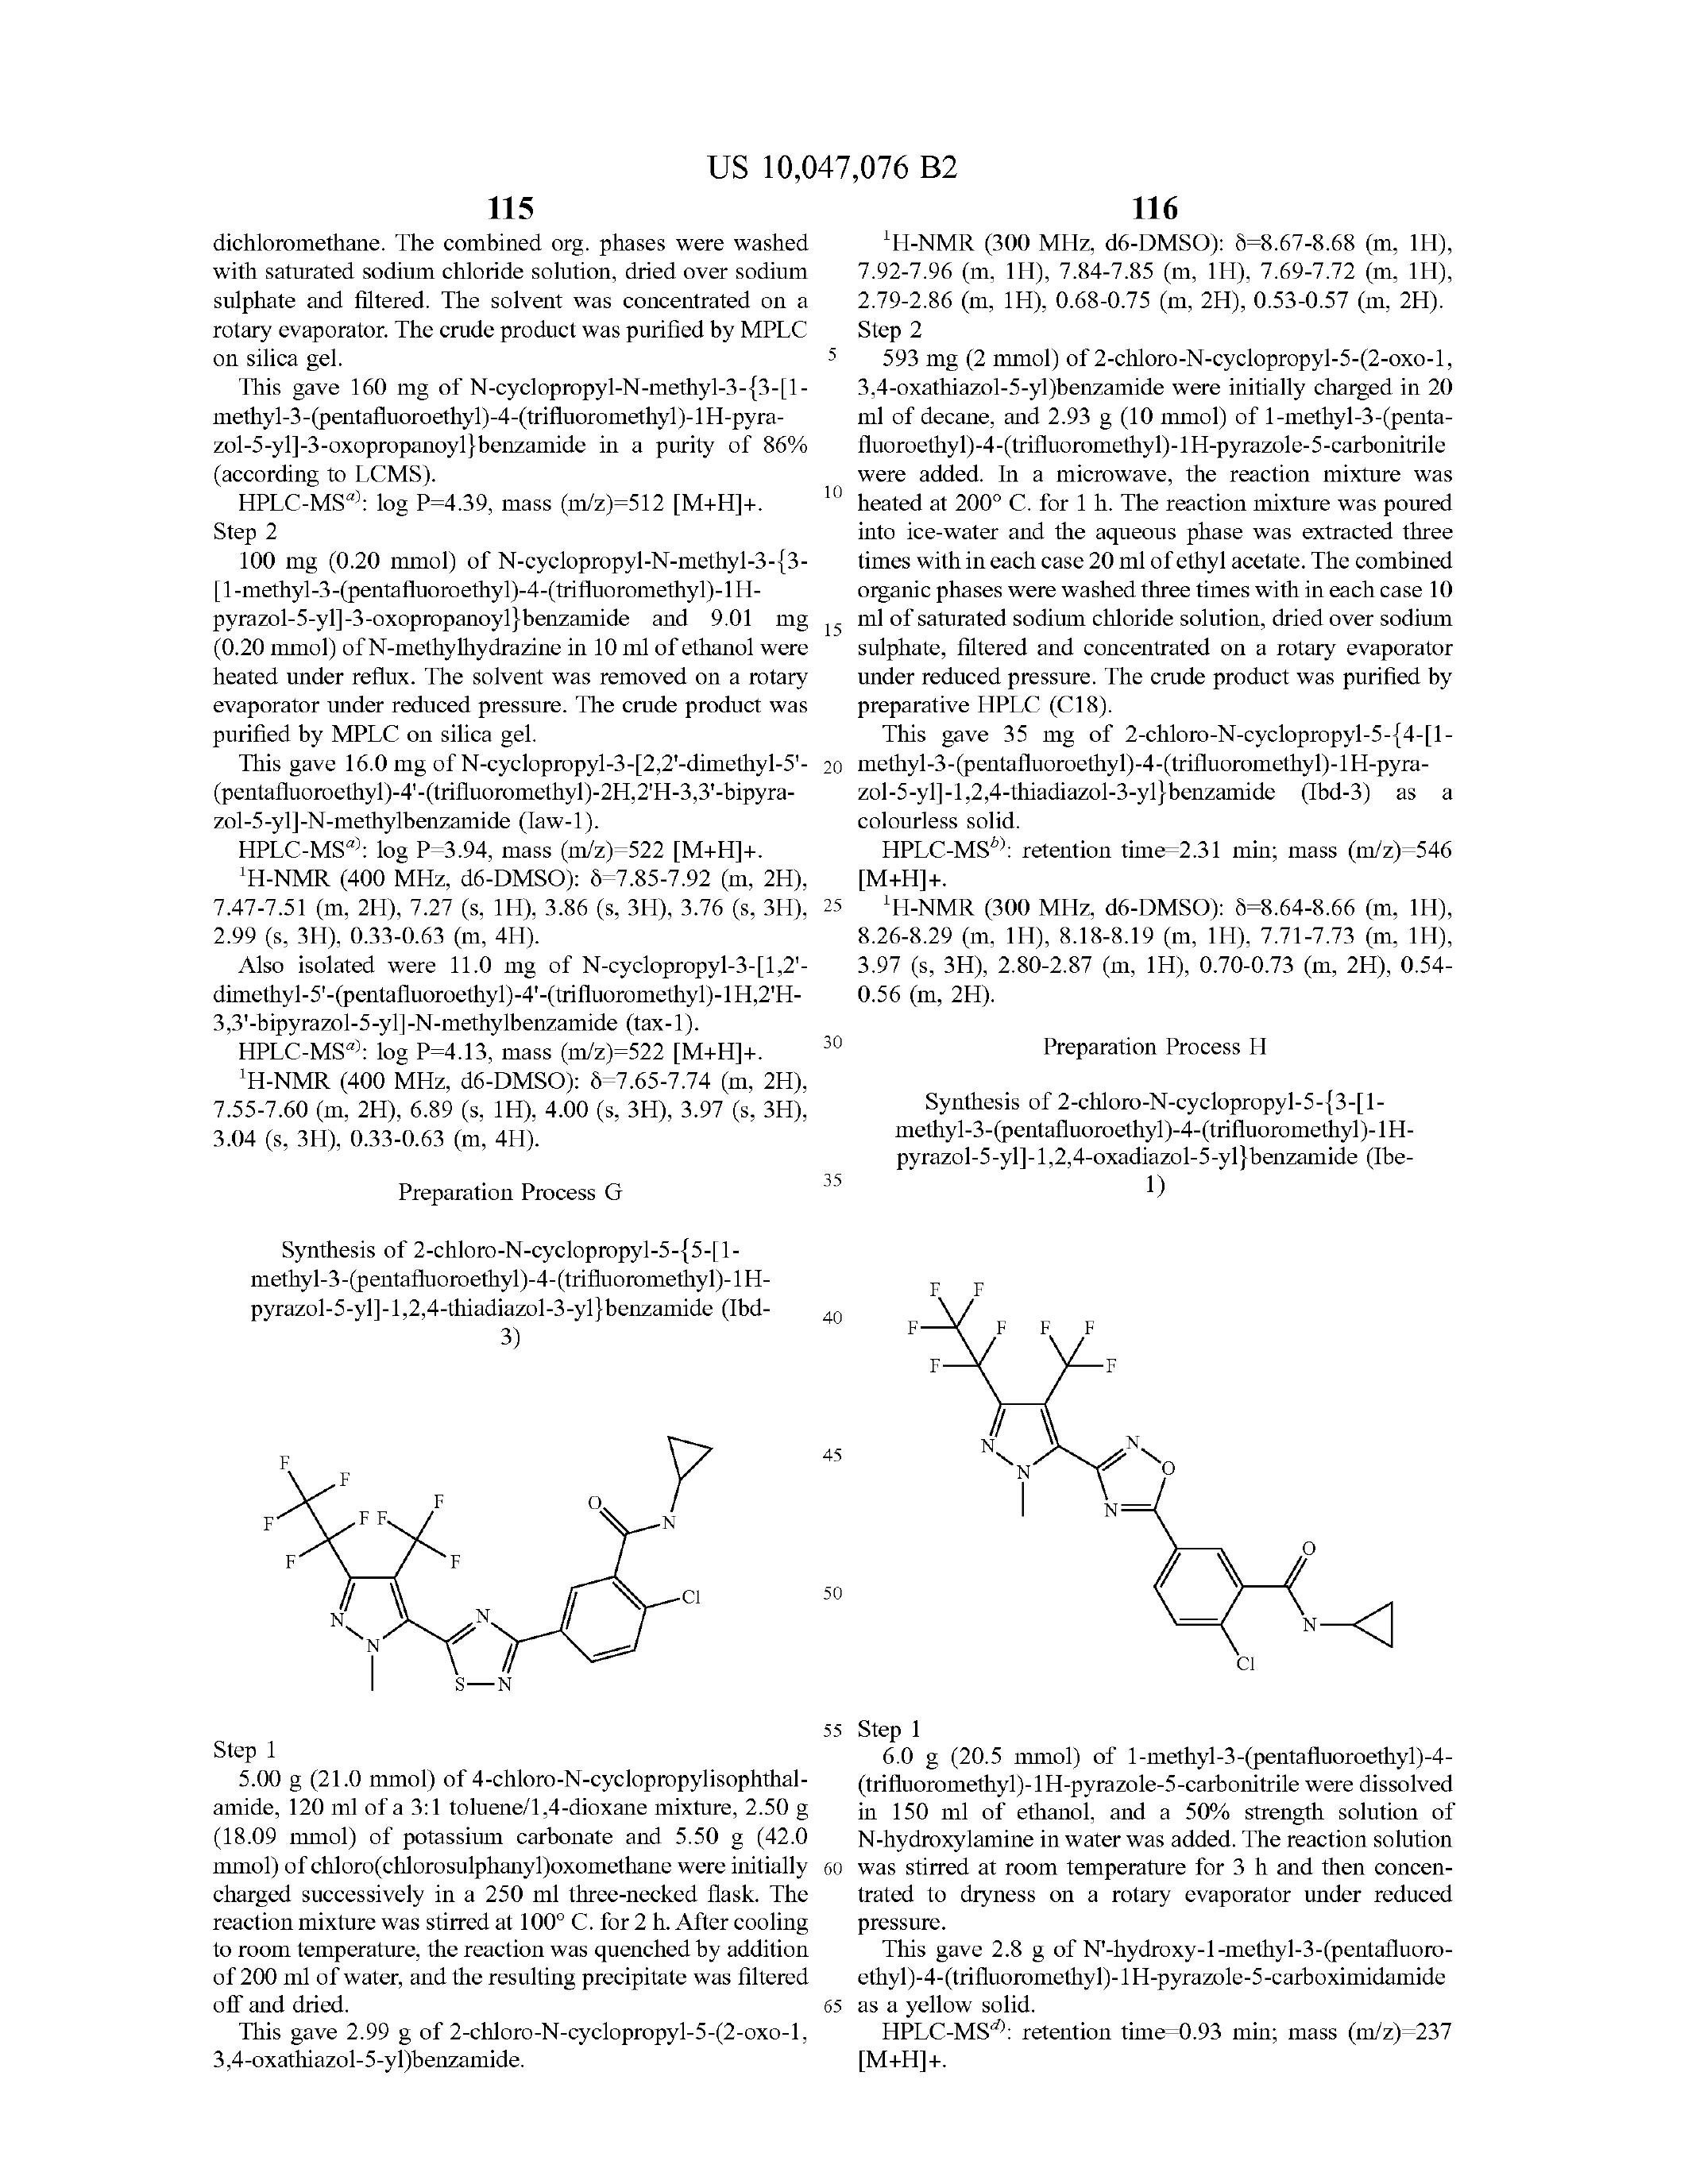relevant-structures: (881, 1207, 1498, 1714), (188, 1365, 766, 1718)
